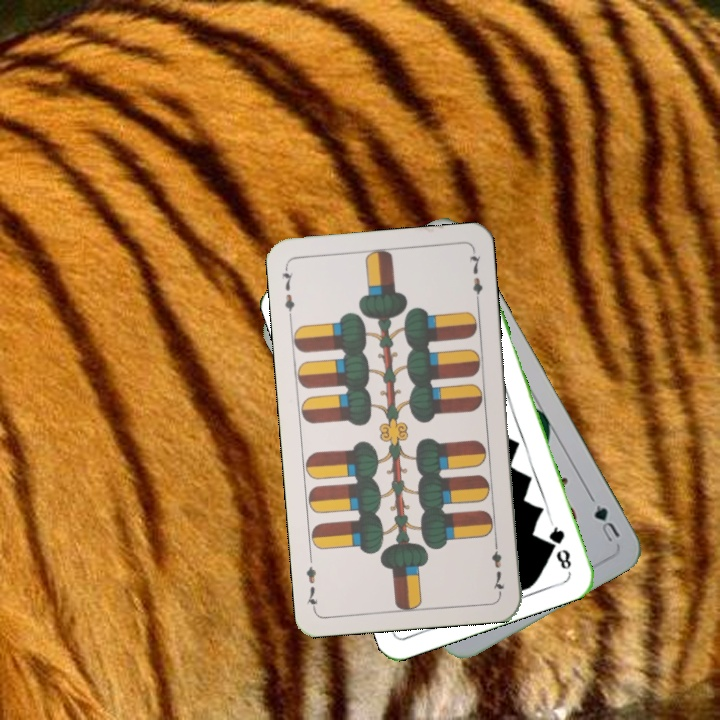E7: (277, 262, 298, 322), (487, 536, 507, 596)
G8: (544, 517, 574, 572)
GU: (590, 500, 623, 545)
